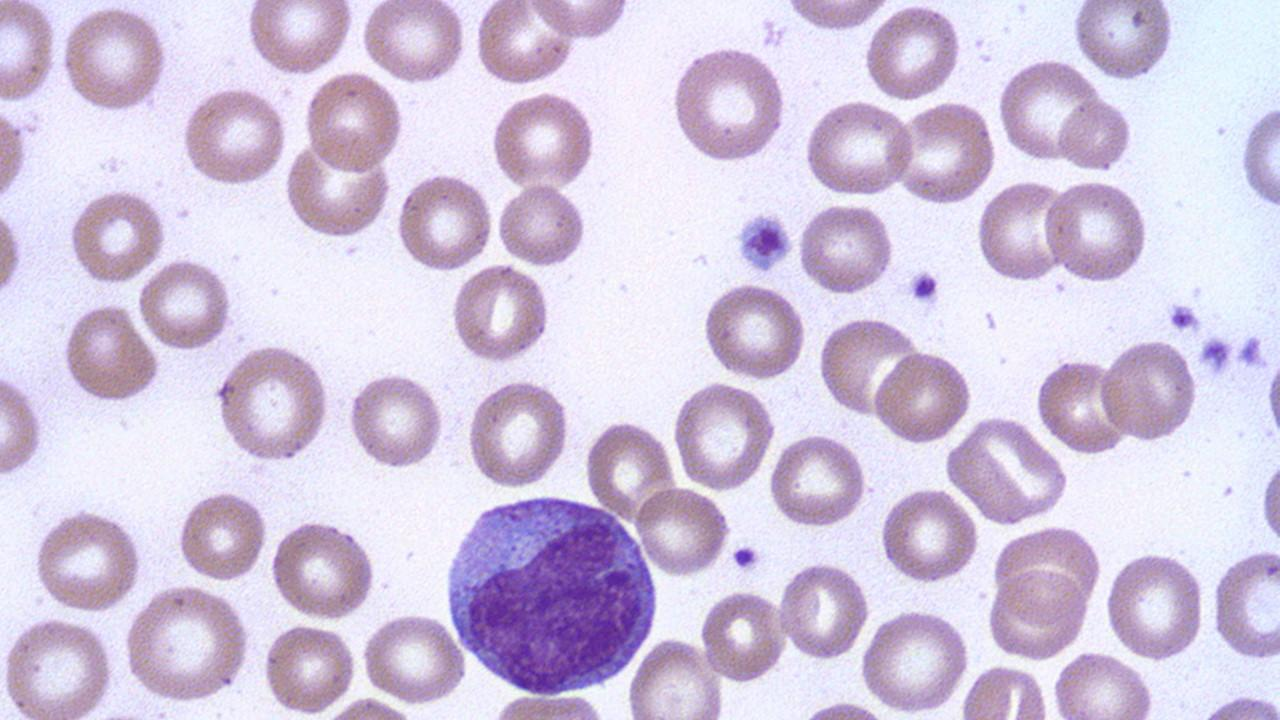Platelets: (734, 208, 794, 275), (1198, 332, 1234, 378), (906, 266, 942, 306), (1232, 333, 1266, 369), (728, 540, 762, 574)
RBC: (121, 583, 252, 705), (668, 44, 789, 166), (214, 342, 332, 464), (945, 414, 1071, 524), (464, 376, 572, 491), (858, 607, 973, 714), (1, 613, 118, 718), (60, 5, 172, 114), (670, 379, 778, 492), (28, 509, 145, 613), (1043, 176, 1151, 286), (1103, 548, 1207, 662), (990, 522, 1102, 626), (282, 136, 395, 239), (179, 84, 288, 190), (698, 280, 810, 382), (801, 98, 915, 198), (892, 100, 999, 205), (994, 57, 1097, 166), (269, 518, 379, 620), (447, 263, 554, 365), (489, 91, 597, 192), (344, 367, 446, 473), (1098, 336, 1198, 444), (303, 70, 406, 174), (361, 609, 470, 707), (870, 347, 976, 447), (394, 170, 496, 273), (974, 177, 1071, 285), (61, 301, 160, 406), (65, 188, 170, 286), (822, 316, 922, 418), (878, 486, 980, 586), (766, 430, 868, 530), (985, 568, 1093, 662), (582, 417, 678, 522), (796, 200, 898, 298), (862, 4, 964, 102), (259, 620, 358, 717), (1034, 355, 1130, 455), (778, 559, 870, 663), (137, 257, 237, 352), (631, 485, 733, 577), (175, 488, 272, 584), (360, 1, 467, 87), (470, 3, 578, 88), (1071, 0, 1177, 85), (698, 586, 788, 684), (626, 631, 726, 717), (1211, 542, 1279, 664), (244, 1, 352, 77), (495, 181, 589, 268), (1049, 649, 1159, 717), (1057, 93, 1135, 174), (0, 1, 58, 105), (0, 366, 48, 480), (960, 660, 1048, 719), (1237, 92, 1279, 215), (523, 1, 635, 41), (778, 0, 896, 33), (0, 192, 26, 340), (1, 94, 30, 214), (1256, 444, 1280, 554)
WBC: (440, 486, 658, 700)
